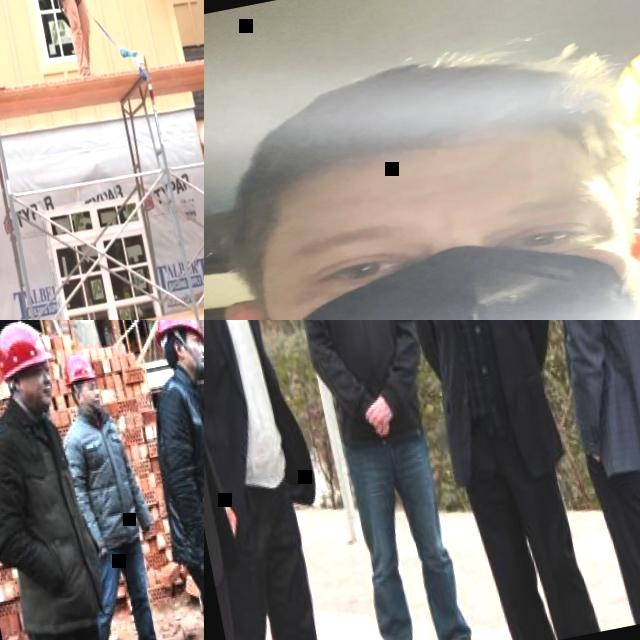Hardhat: (0, 320, 57, 382), (149, 320, 204, 352), (59, 347, 98, 387), (196, 120, 204, 152)
Mask: (254, 231, 640, 320)
NO-Hardhat: (209, 22, 631, 220)
NO-Mask: (23, 381, 54, 415), (87, 392, 101, 410), (196, 351, 204, 371)
NO-Safety Vest: (0, 409, 105, 629), (411, 320, 556, 478), (204, 320, 295, 505), (307, 320, 422, 440), (552, 320, 640, 476), (141, 377, 204, 555), (65, 416, 143, 547), (204, 320, 230, 587)
Person: (204, 0, 640, 320), (380, 320, 609, 640), (271, 320, 481, 640), (39, 340, 181, 640), (0, 320, 133, 640), (204, 320, 334, 640), (512, 320, 640, 628), (122, 320, 204, 640), (204, 320, 271, 640), (33, 0, 104, 80)
